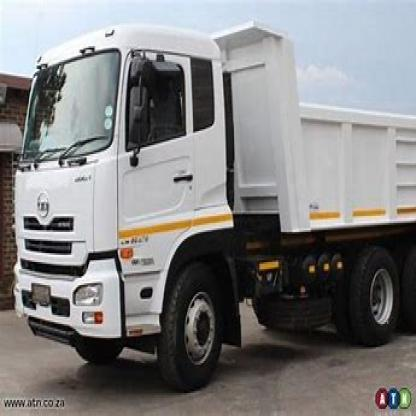dump_truck: (19, 22, 415, 390)
